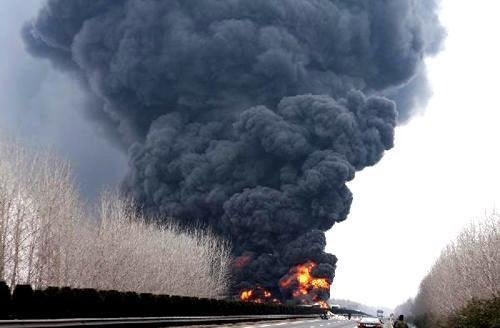fire: (294, 262, 329, 306), (239, 287, 271, 302)
